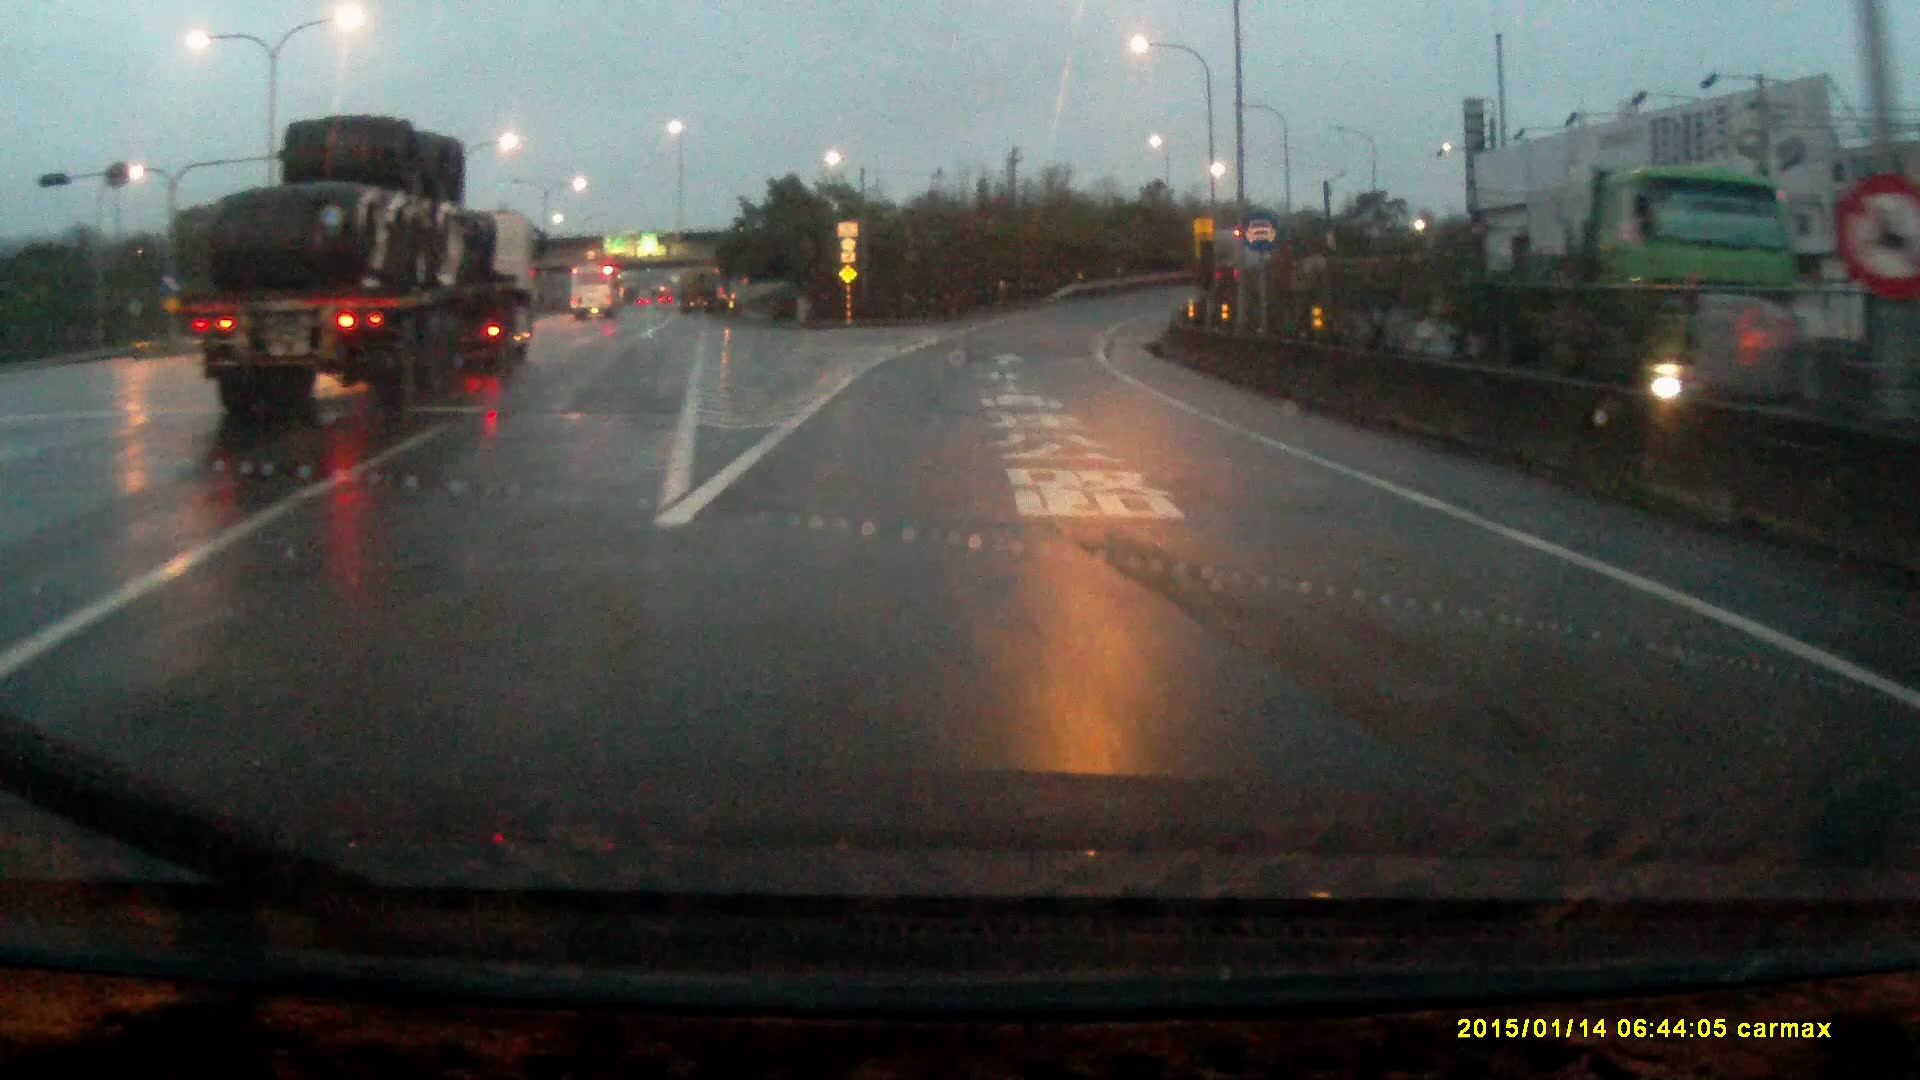vehicle: (179, 113, 547, 407), (568, 262, 620, 320)
